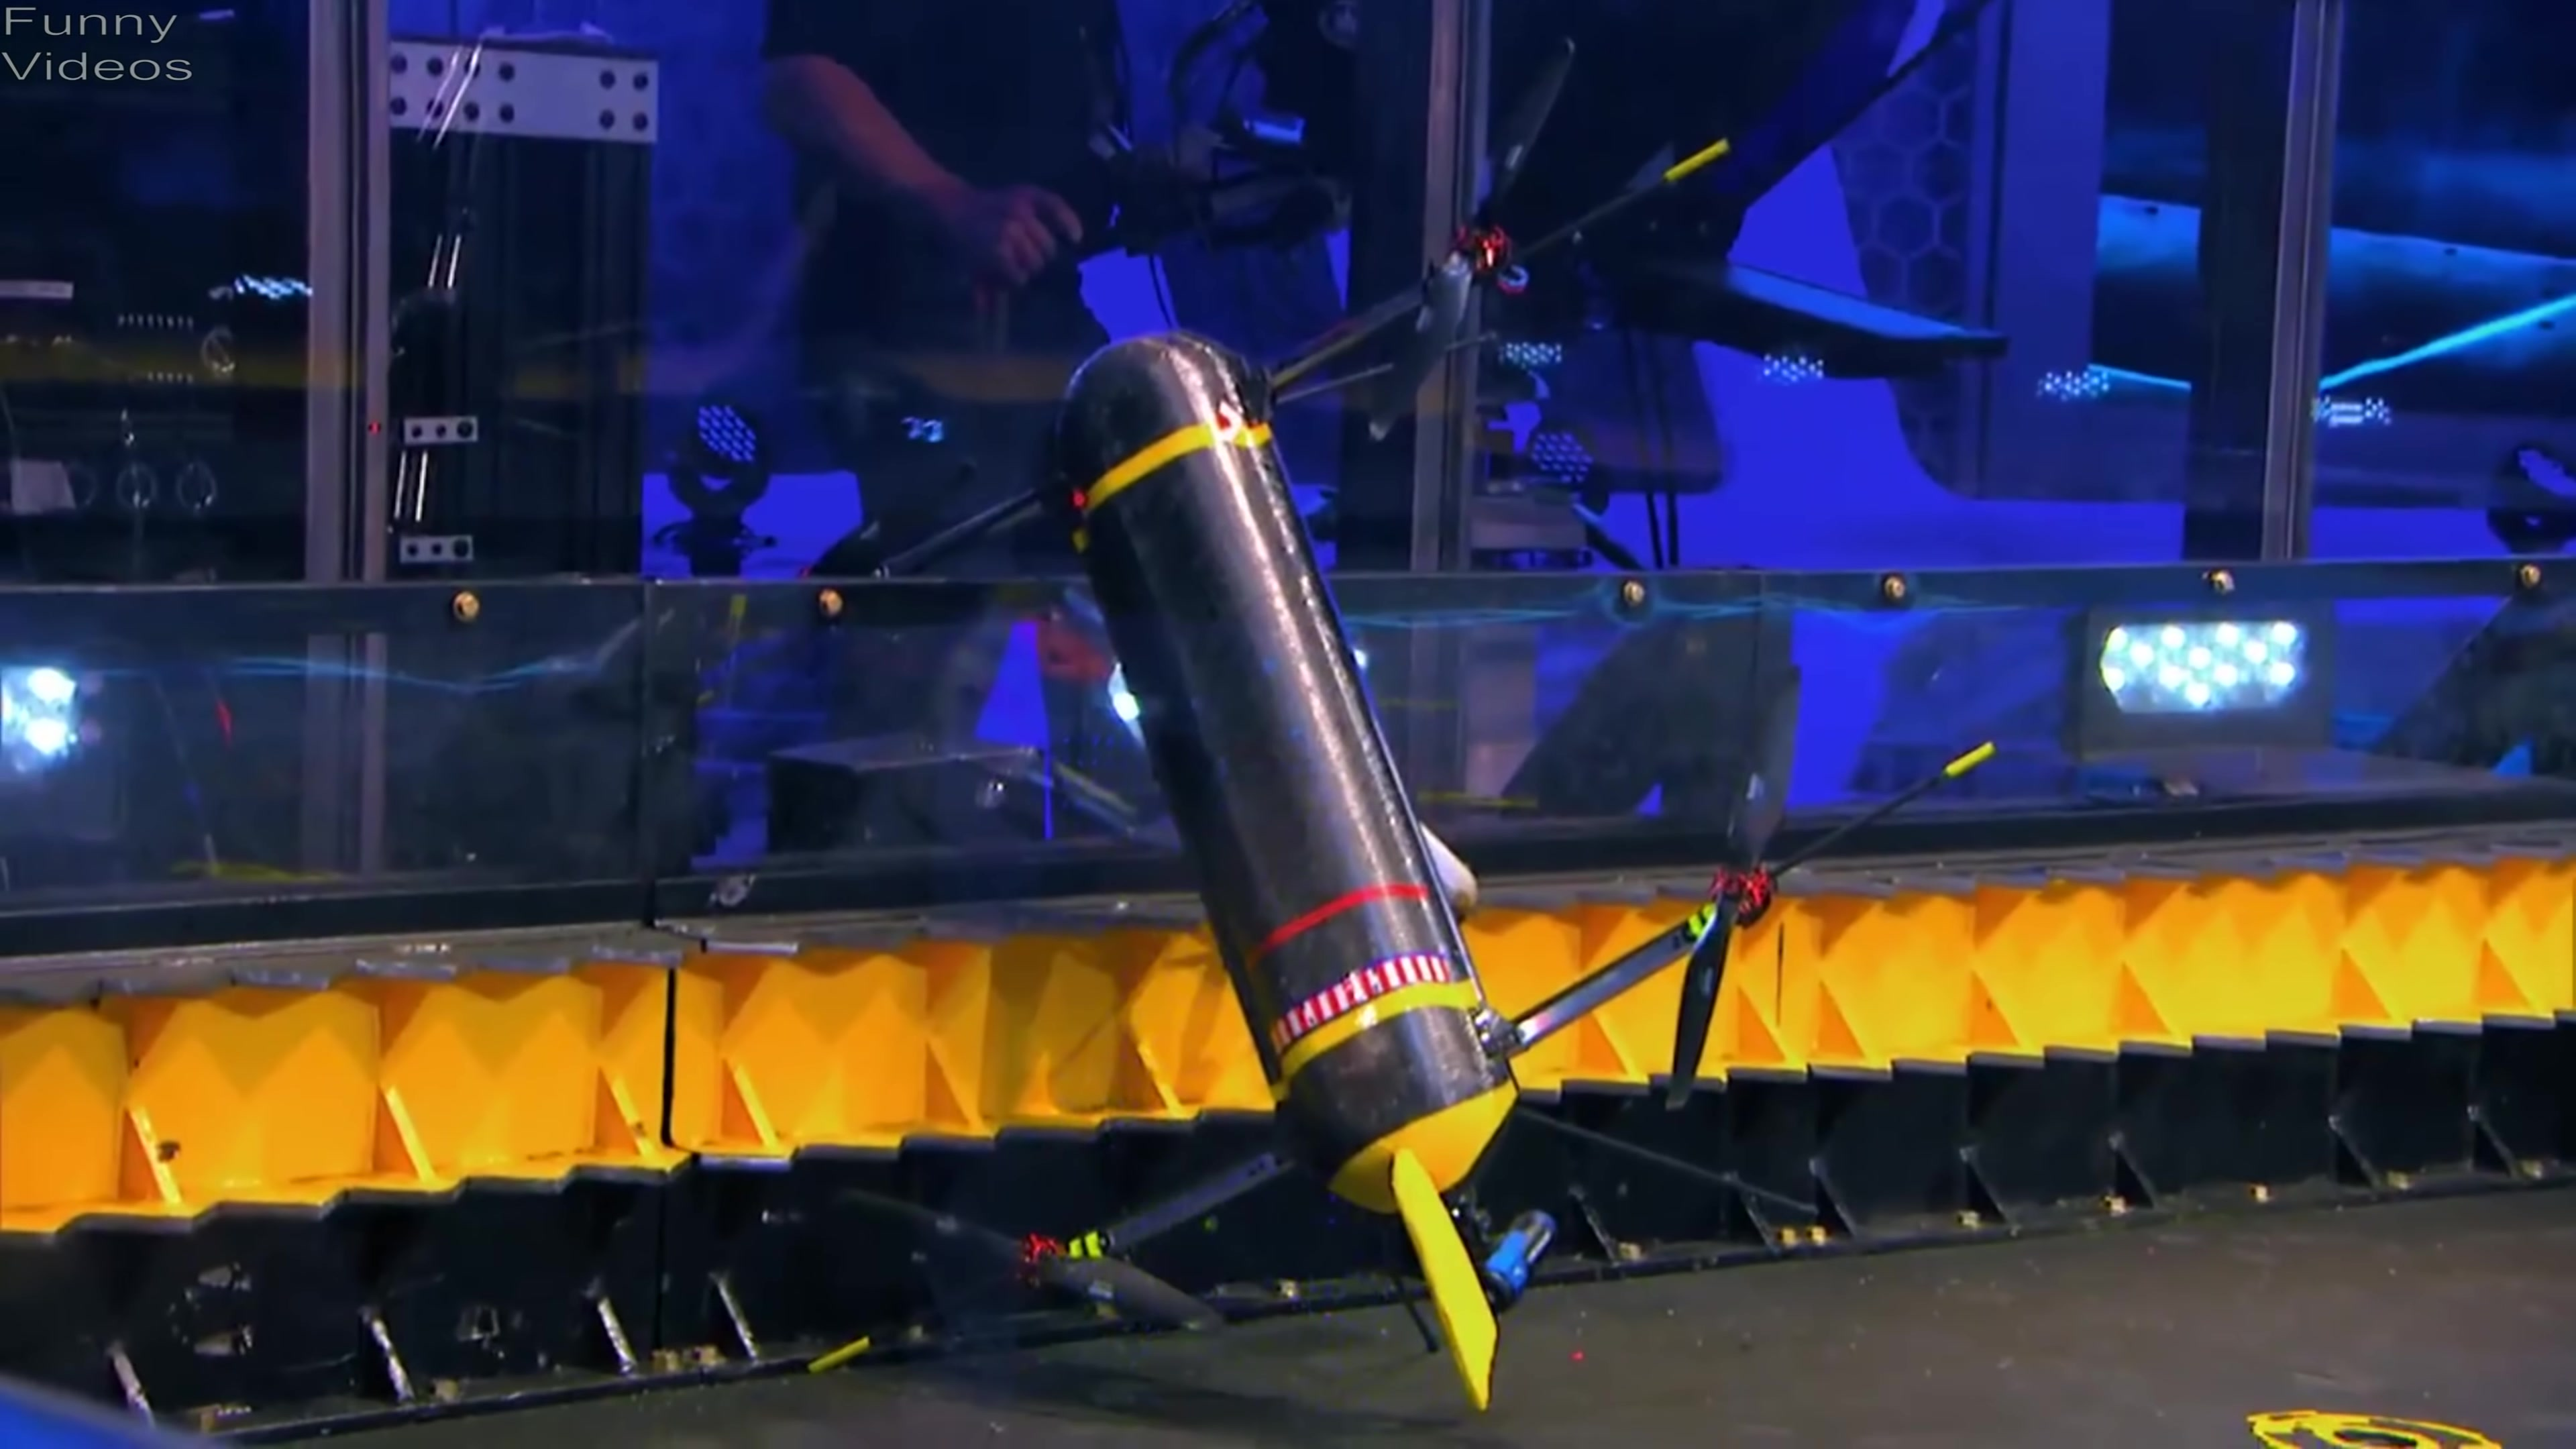combatbot: (1058, 333, 1505, 1411)
